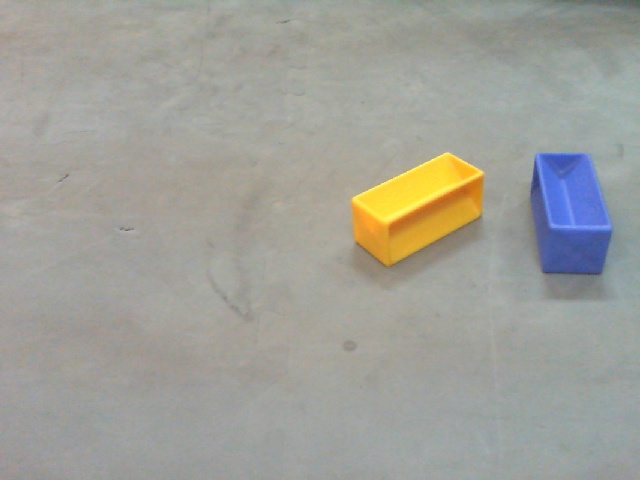BlueSample: (529, 150, 615, 279)
YellowSample: (349, 150, 488, 269)
